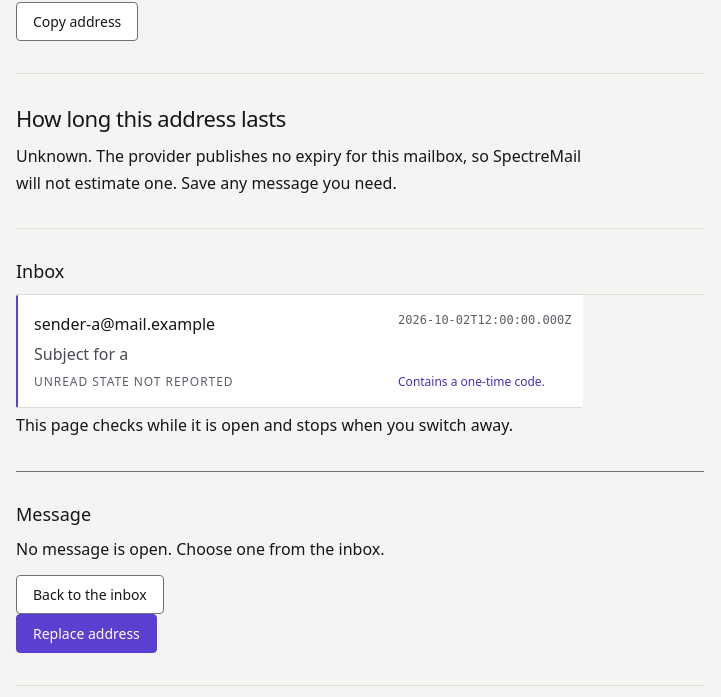
Scenario: the message view › what the page found in a message › forgets a copy result when the message is shown again
The width and height of the screenshot is (721, 697).
(page scrolled)
What coordinates should you click on to do the following:
click the button with test id "inbox-row-open"
I would click on:
 (125, 324)
Its box is [16,295,583,408].
(page scrolled)
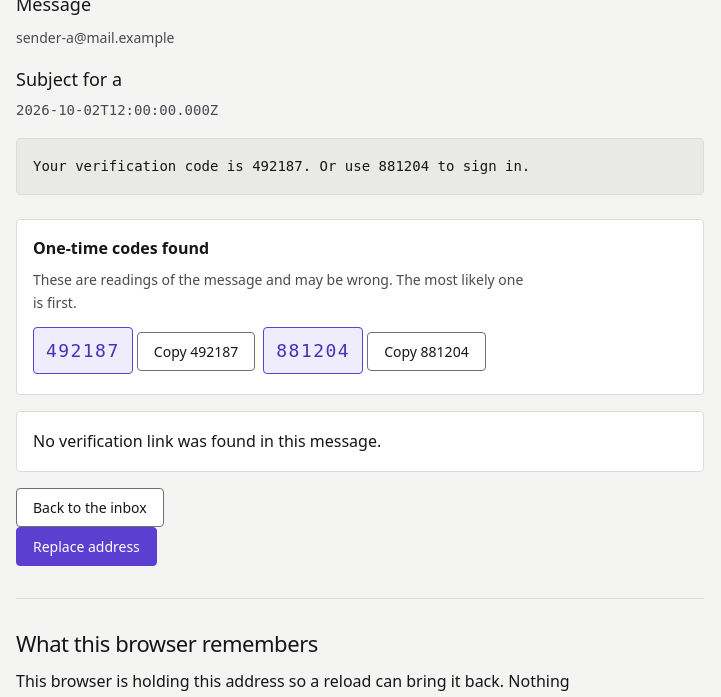
Result: the element with test id "message-opened" is shown
What coordinates should you click on to do the following:
click the button with test id "message-code-copy" showing "Copy 492187"
I would click on:
 (196, 351)
Its box is [137,332,255,370].
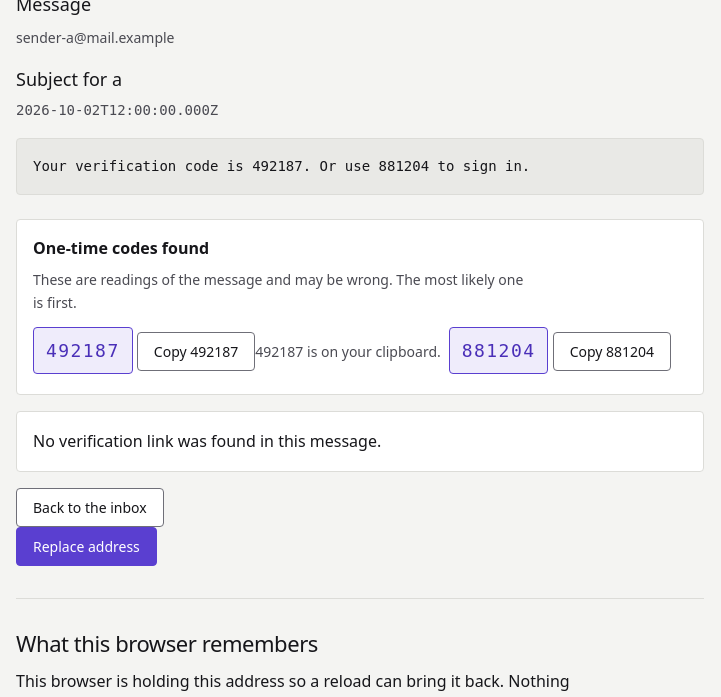
Result: the message with test id "message-code-status" shows "is on your clipboard" at [255,342,441,360]
What coordinates should you click on to do the following:
click the button with test id "message-close"
I would click on:
 (90, 507)
Its box is [16,488,164,527].
(page scrolled)
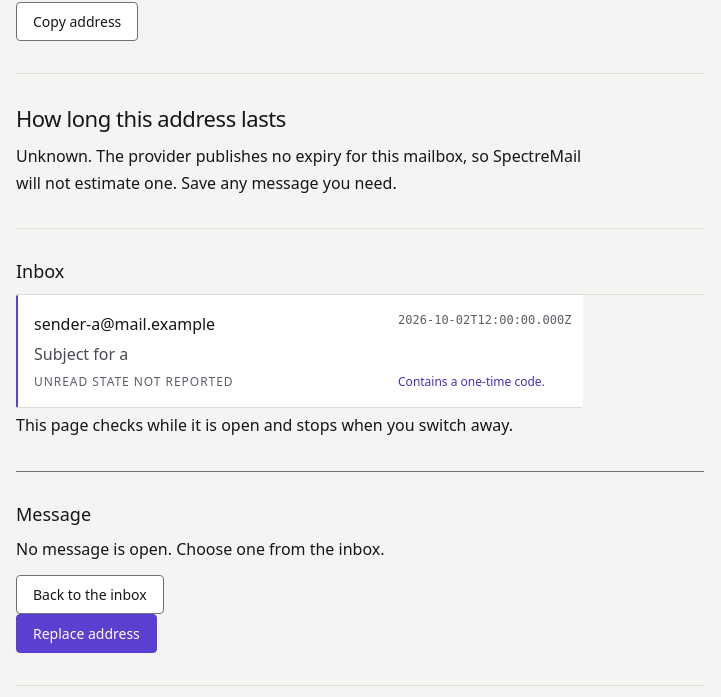
What coordinates should you click on to do the following:
click the button with test id "inbox-row-open"
I would click on:
 (125, 324)
Its box is [16,295,583,408].
(page scrolled)
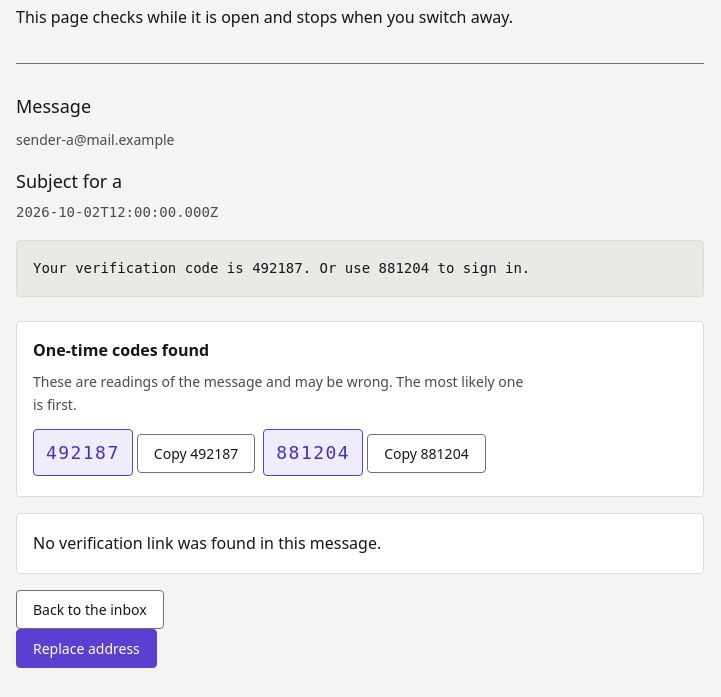
Result: the element with test id "message-opened" is shown
